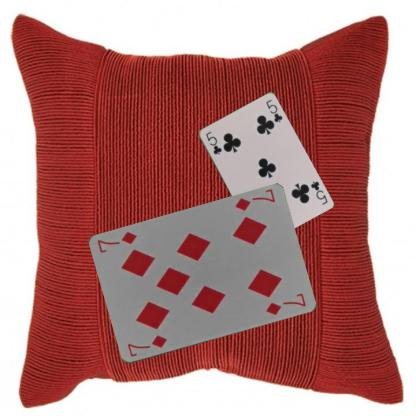5c: (308, 178, 329, 206), (203, 129, 223, 155)
7d: (232, 187, 276, 213), (125, 333, 168, 358)
